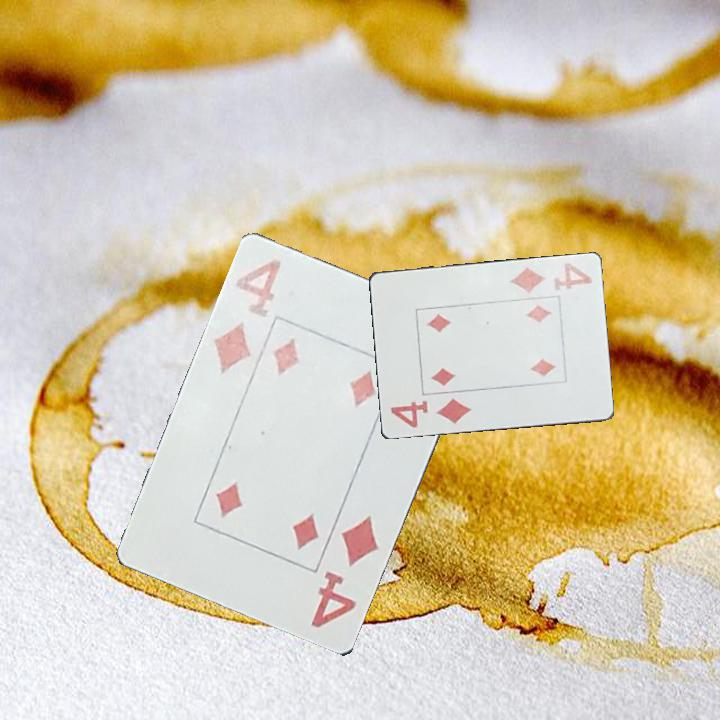4d: (307, 512, 384, 632), (210, 256, 285, 377), (506, 260, 595, 298), (387, 394, 474, 431)
